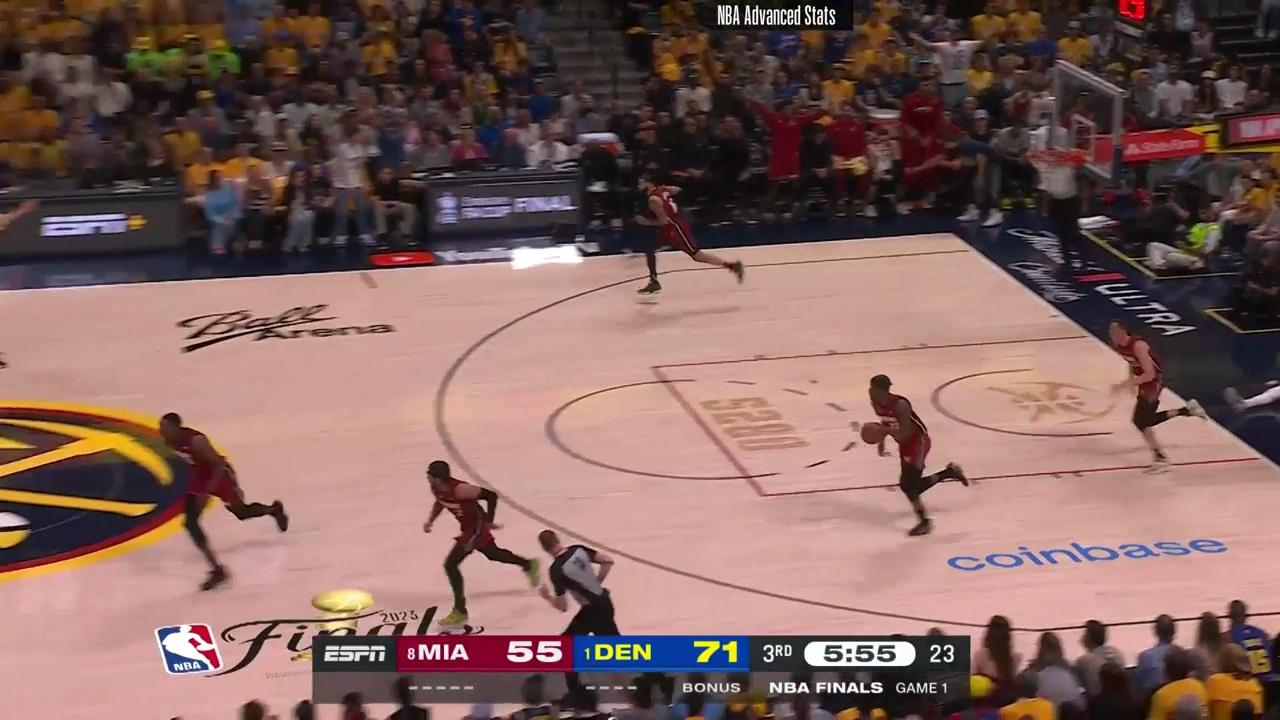Backboard: (1050, 63, 1133, 182)
Ball: (860, 422, 884, 446)
Basket: (1031, 148, 1084, 194)
Person: (146, 406, 304, 594), (413, 457, 564, 636), (856, 367, 979, 537), (1093, 315, 1206, 480), (631, 173, 749, 301)
Referee: (534, 525, 630, 639), (1037, 165, 1100, 270)
Shot Clock: (1108, 0, 1155, 50)
